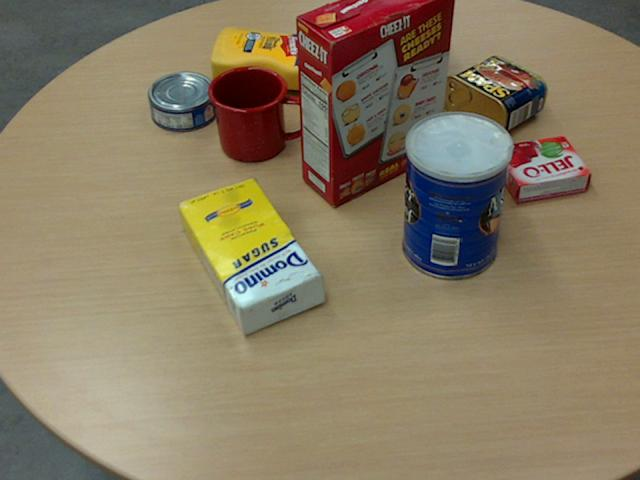cracker_box: (295, 0, 455, 204)
gelatin_box: (493, 134, 590, 200)
large_marker: (374, 22, 392, 112)
master_chef_can: (402, 111, 511, 280)
mug: (207, 65, 308, 161)
mustard_bottle: (210, 26, 363, 89)
potted_meat_can: (440, 55, 546, 139)
sugar_box: (174, 177, 324, 335)
tomato_soup_can: (385, 0, 439, 76)
tuna_fish_can: (147, 70, 217, 130)
